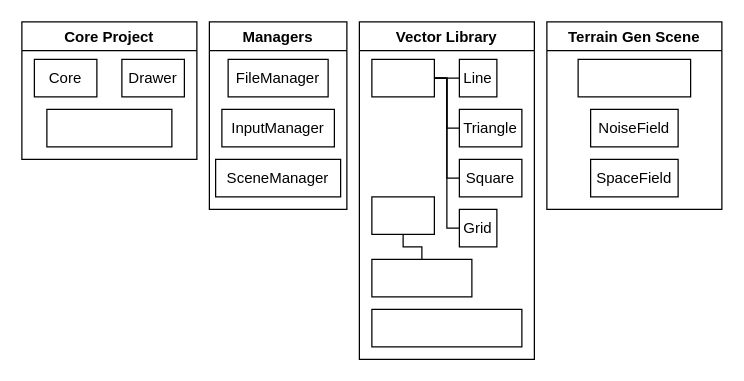
Image size: 744x381. Some labels were removed from this diagram. Here are the shapes that lost their labels. From the top down, the centre of each, then its label:
the point at 402,77: IShape
the point at 634,77: TerrainScene
the point at 109,127: AudioProcessing
the point at 402,215: IScene
the point at 421,277: DefaultScene
the point at 446,327: ArithmeticExtensions
